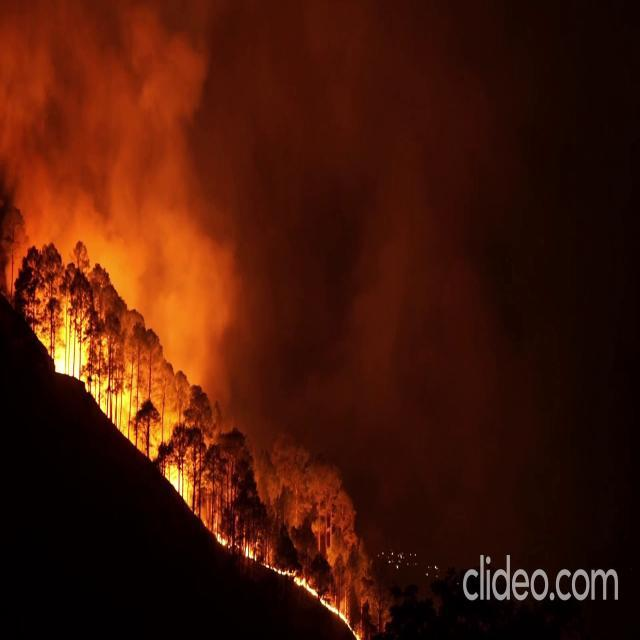Fire: (94, 357, 140, 452), (46, 316, 96, 392), (295, 568, 349, 632), (166, 448, 196, 521)
Smoke: (0, 0, 525, 508)
